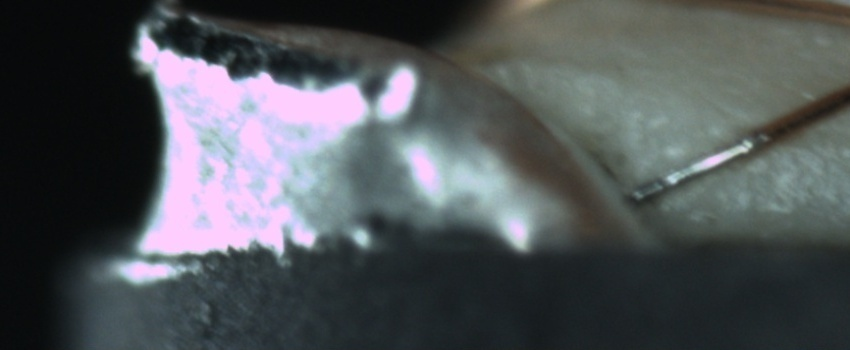DL: (775, 109, 850, 173)
TS: (625, 129, 768, 202)
